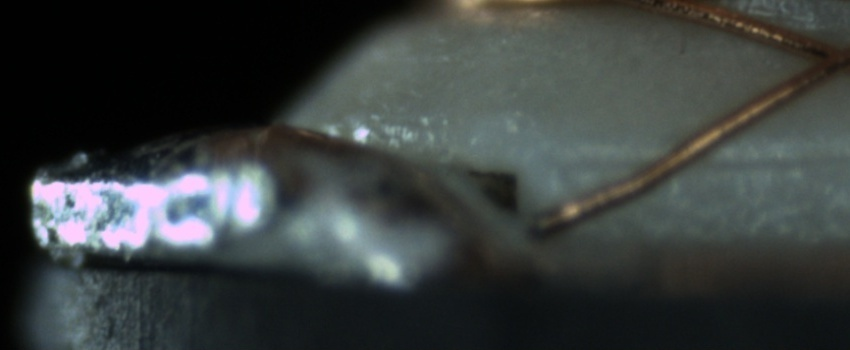CL: (794, 28, 849, 86)
DL: (568, 128, 845, 190)
